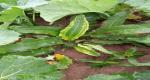zhavel: (0, 9, 150, 57)
